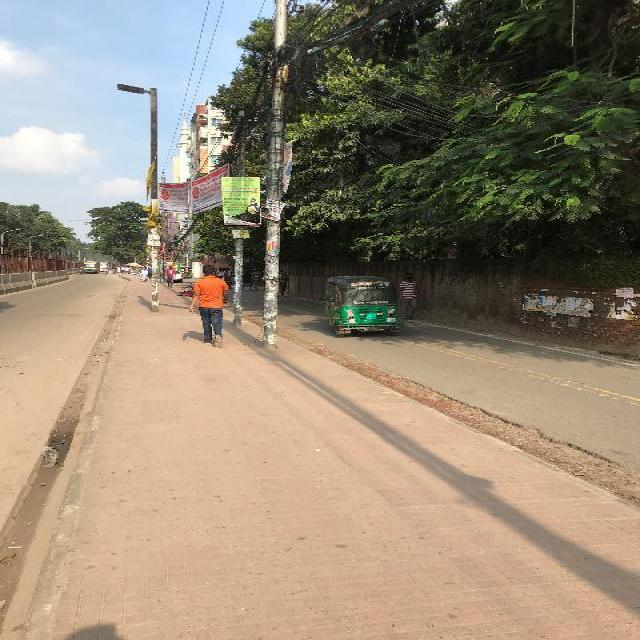bike: (79, 268, 83, 275), (104, 269, 106, 275)
vehicle: (325, 276, 405, 338), (217, 269, 233, 290), (84, 262, 99, 275), (181, 267, 193, 280), (168, 260, 178, 271), (175, 272, 183, 282), (100, 263, 110, 268), (109, 269, 114, 275)
